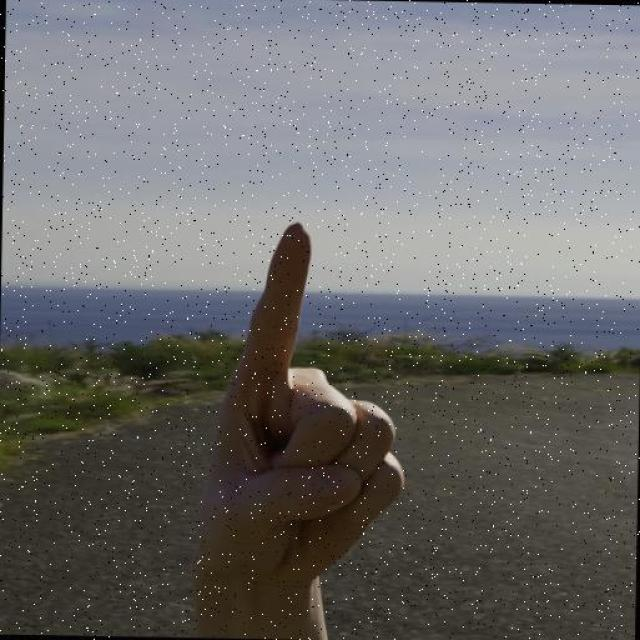Z: (188, 214, 412, 598)
